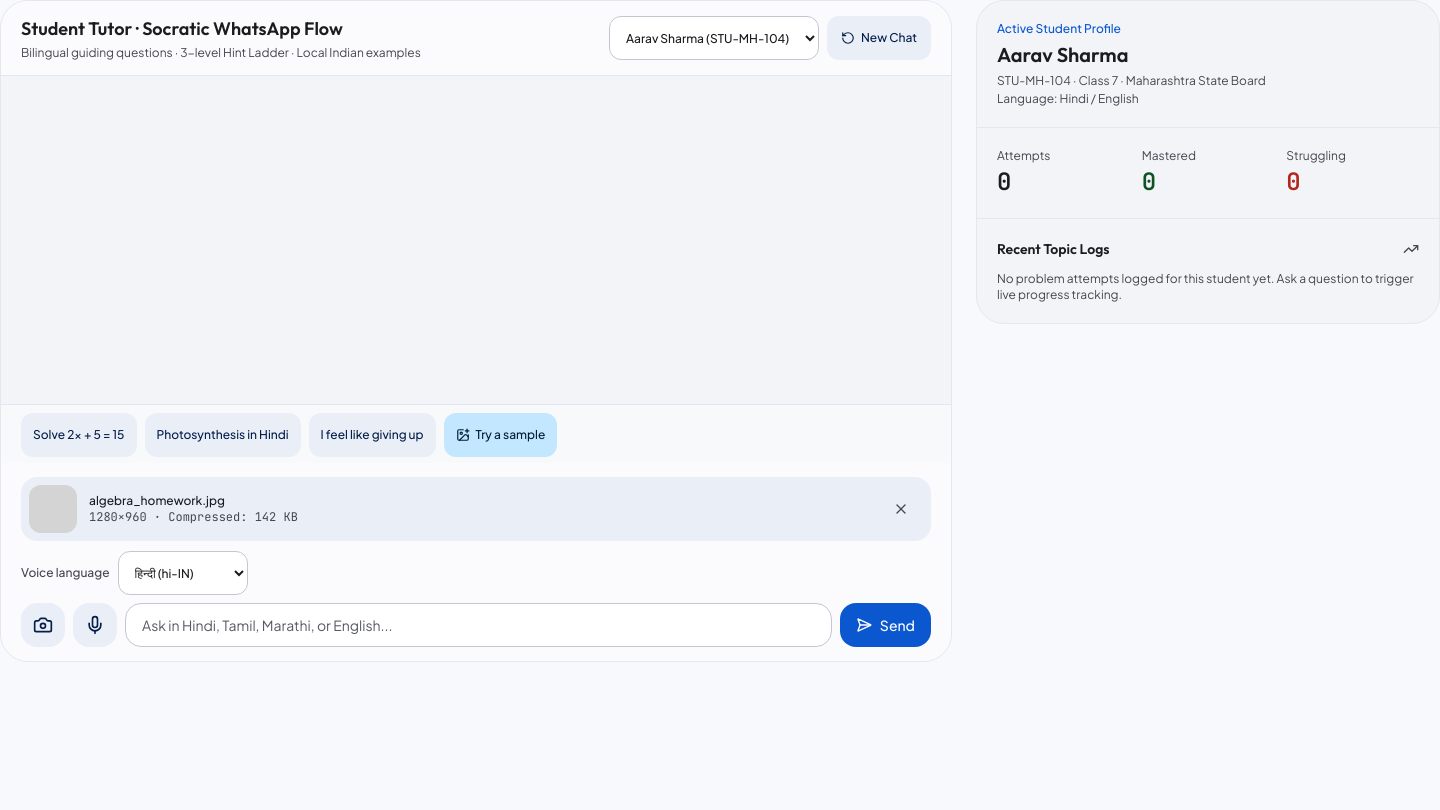
Shiksha-Agent React components › attaches a compressed image preview and removes it on click
Earlier steps of the test are not shown.
Expected: the text "algebra_homework.jpg" is shown, left=89, top=493, right=225, bottom=508
Expected: the text "1280×960 · Compressed: 142 KB" is shown, left=89, top=509, right=298, bottom=525
What coordinates should you click on to do the following:
click the button named "Remove attached homework photo"
I would click on:
 (901, 509)
Its box is left=879, top=487, right=923, bottom=531.
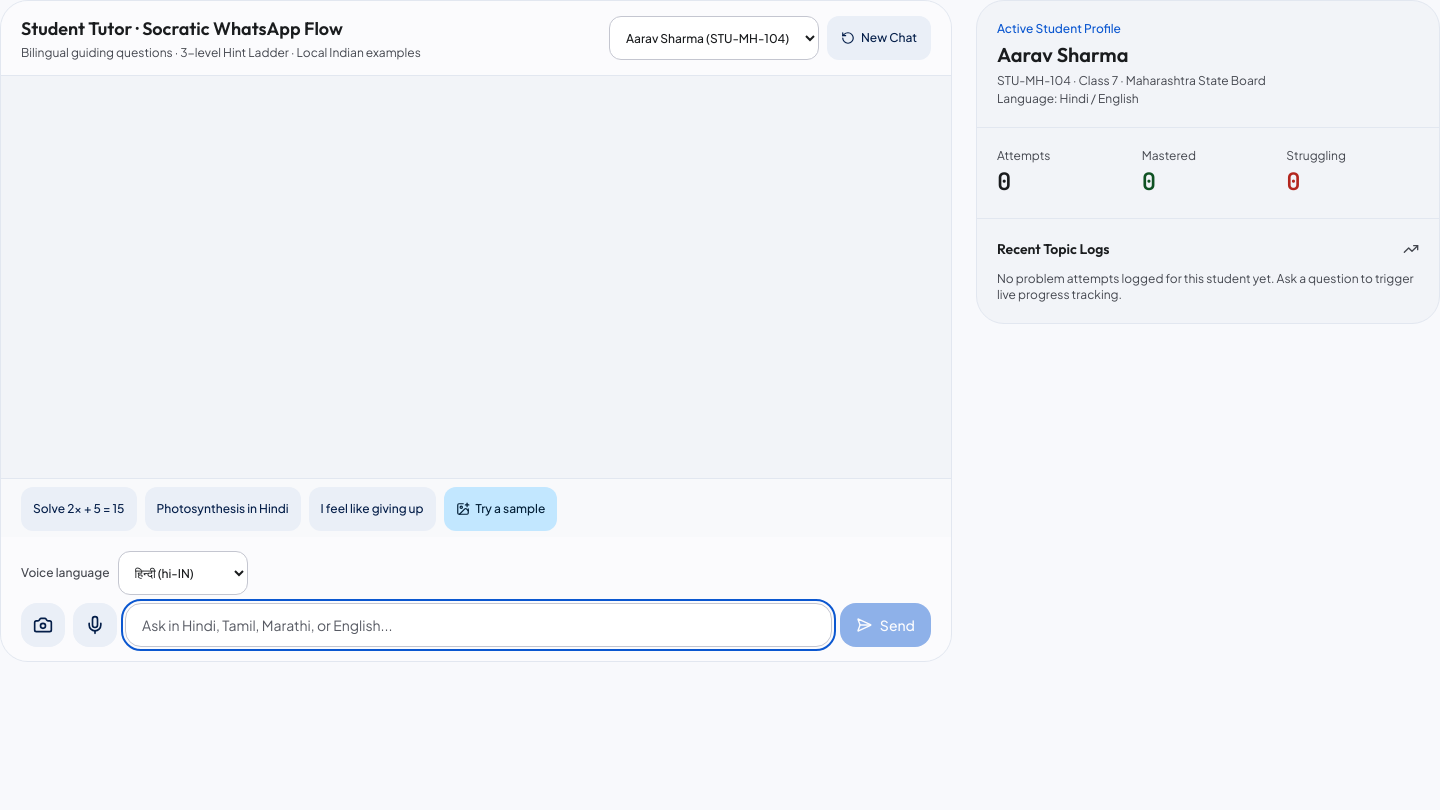
Now the text "algebra_homework.jpg" is gone
